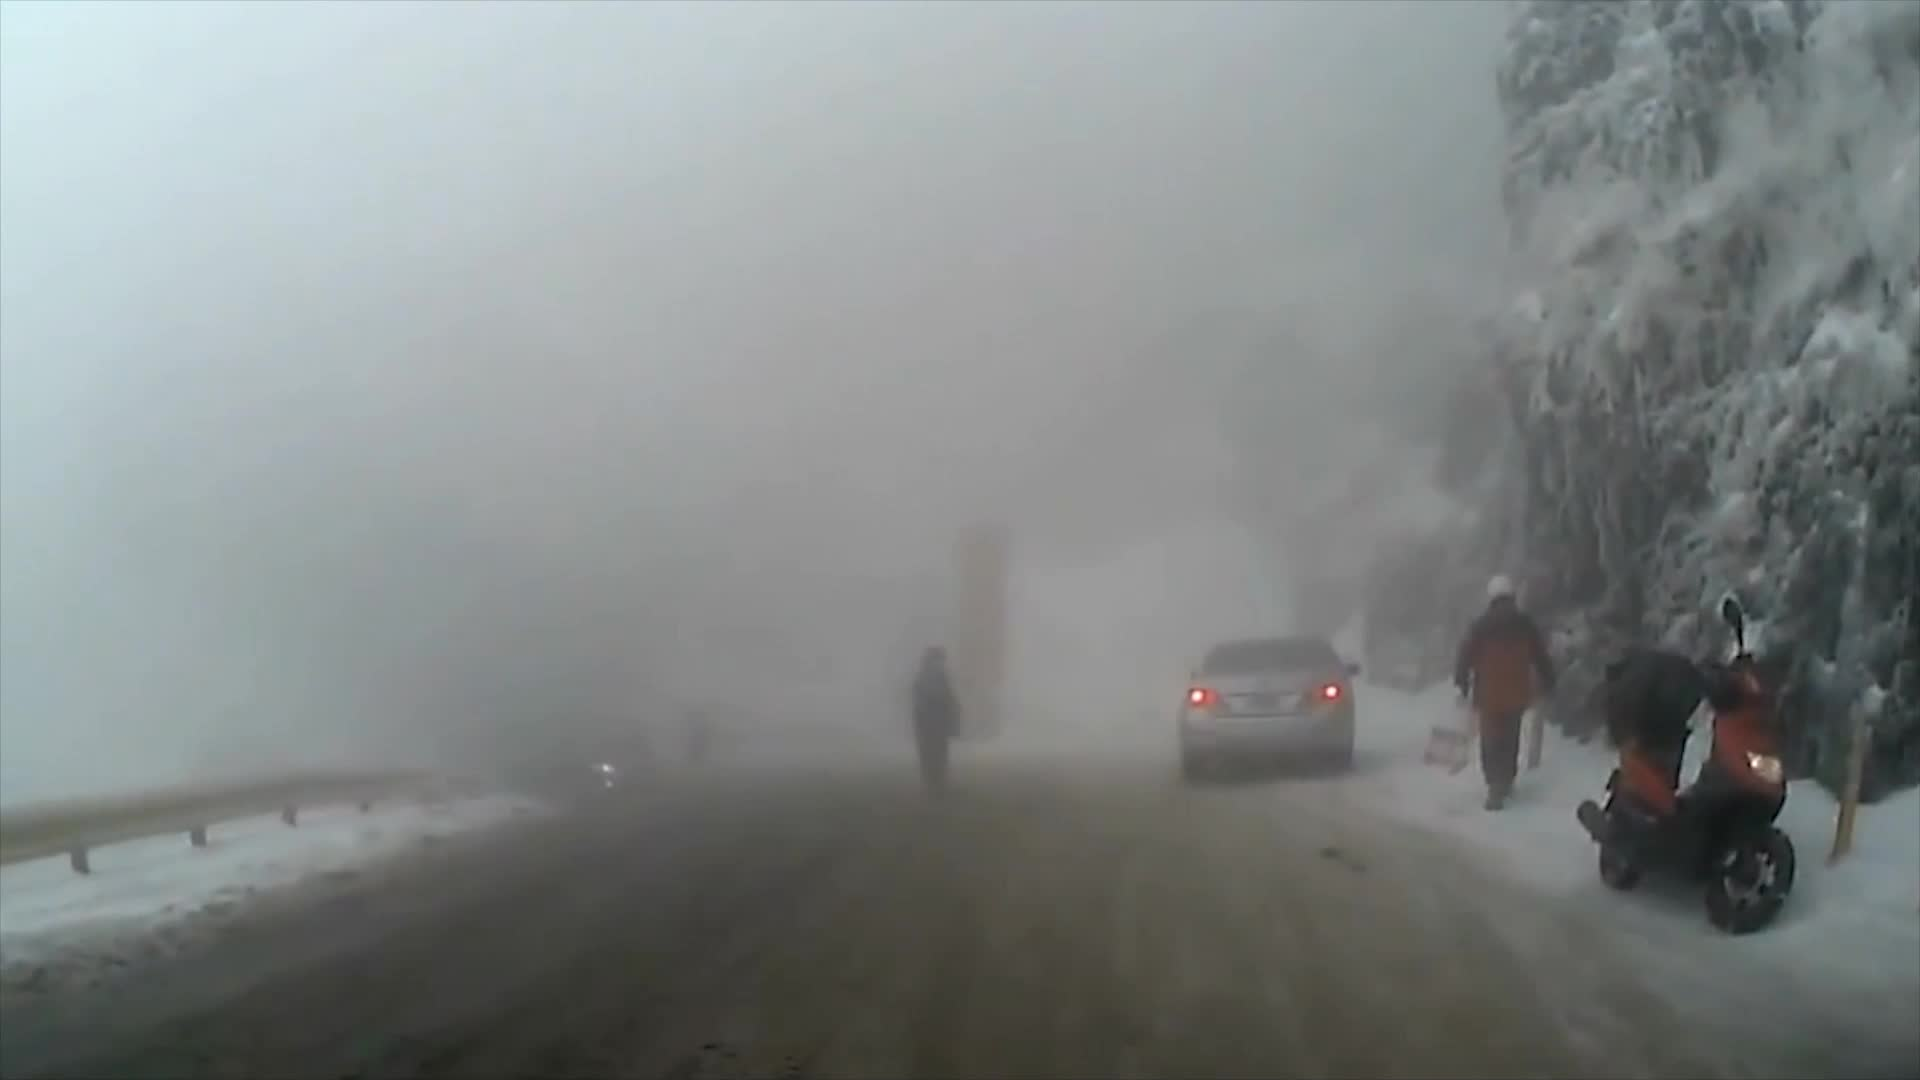pedestrian: (1448, 572, 1553, 813), (907, 642, 955, 798)
vehicle: (1176, 632, 1361, 783)
